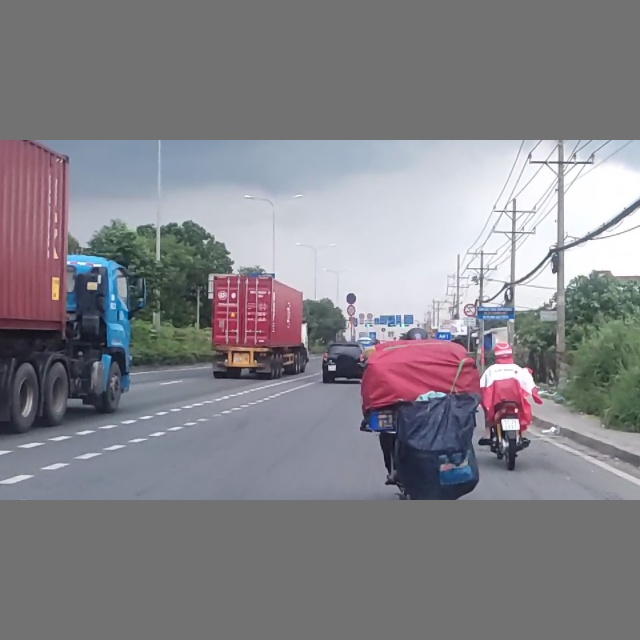P.107: (464, 303, 477, 316)
P.130: (345, 293, 357, 304)
